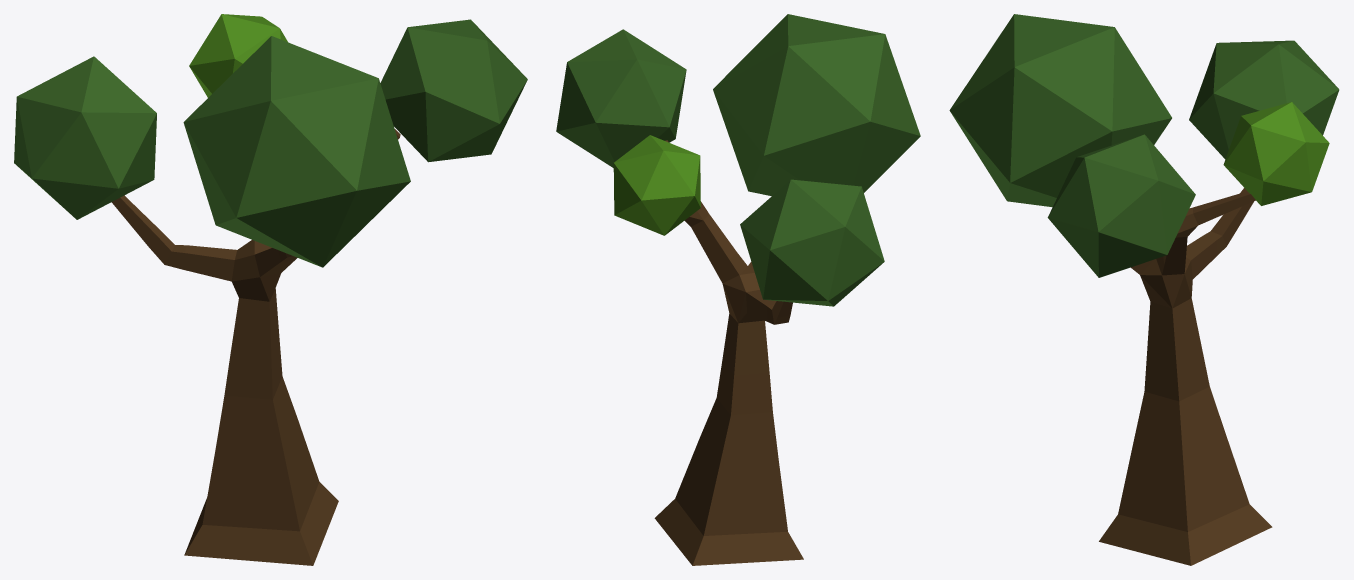
Rendered from tree1.fbx.
3 renders of one model, left to right at view 1: azimuth 30°, elevation 25°; view 2: azimuth 150°, elevation 25°; view 3: azimuth 270°, elevation 25°, orthographic. The views are drawn at different scales.
Parts seen in each view (by area): view 1: Icosphere.011, Cube.004, Icosphere.012, Icosphere.009, Icosphere.010; view 2: Icosphere.011, Cube.004, Icosphere.012, Icosphere.009, Icosphere.010; view 3: Cube.004, Icosphere.011, Icosphere.009, Icosphere.012, Icosphere.010.
Part boxes in pixels (x1=…): Icosphere.011: x1=183, y1=36, x2=410, y2=267; Cube.004: x1=111, y1=129, x2=400, y2=565; Icosphere.012: x1=14, y1=56, x2=156, y2=219; Icosphere.009: x1=380, y1=19, x2=527, y2=162; Icosphere.010: x1=189, y1=14, x2=287, y2=97; Icosphere.011: x1=713, y1=14, x2=920, y2=196; Cube.004: x1=654, y1=140, x2=803, y2=565; Icosphere.012: x1=740, y1=179, x2=884, y2=306; Icosphere.009: x1=556, y1=29, x2=686, y2=167; Icosphere.010: x1=613, y1=135, x2=700, y2=235; Cube.004: x1=1099, y1=188, x2=1272, y2=565; Icosphere.011: x1=949, y1=14, x2=1171, y2=207; Icosphere.009: x1=1047, y1=134, x2=1195, y2=277; Icosphere.012: x1=1189, y1=40, x2=1339, y2=159; Icosphere.010: x1=1223, y1=102, x2=1329, y2=205.
Bounding box in the file's own units: 6.6 × 7.97 × 5.63.
